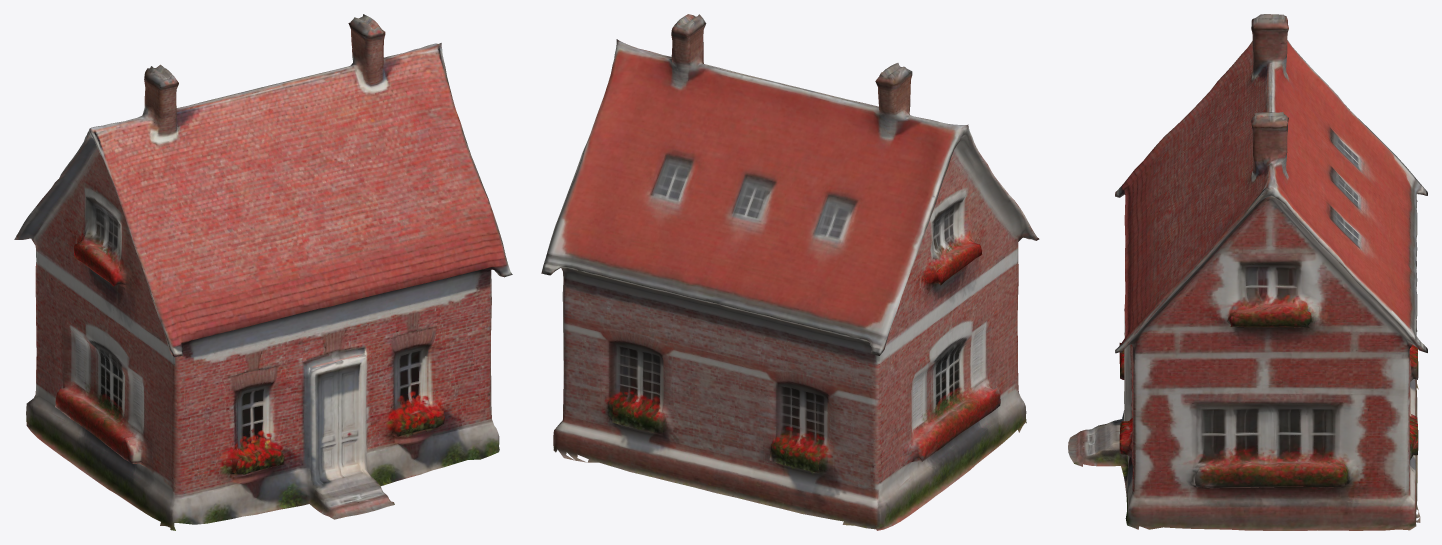
The model's file is MaastrichtHouse003.glb.
3 views of the same model, side by side, from view 1: azimuth 30°, elevation 25°; view 2: azimuth 150°, elevation 25°; view 3: azimuth 270°, elevation 25° (orthographic). The views are drawn at different scales.
Visible parts, largest first — view 1: MaastrichtHouse003; view 2: MaastrichtHouse003; view 3: MaastrichtHouse003.
Boxes of the visible parts, x1,y1,x2,y2 form: MaastrichtHouse003: [14, 14, 512, 530]; MaastrichtHouse003: [541, 14, 1039, 530]; MaastrichtHouse003: [1068, 14, 1427, 530].
Size of the model in its own units: 1.77 by 1.9 by 1.6.
1 material, 1 textured.
